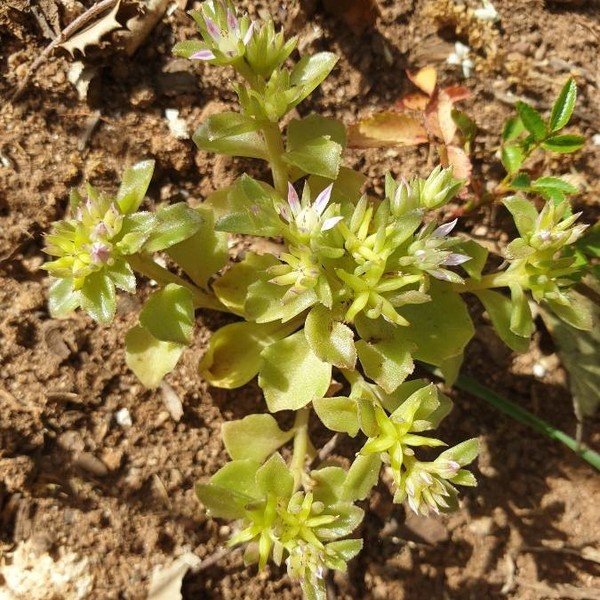obstacle: (56, 29, 493, 578)
